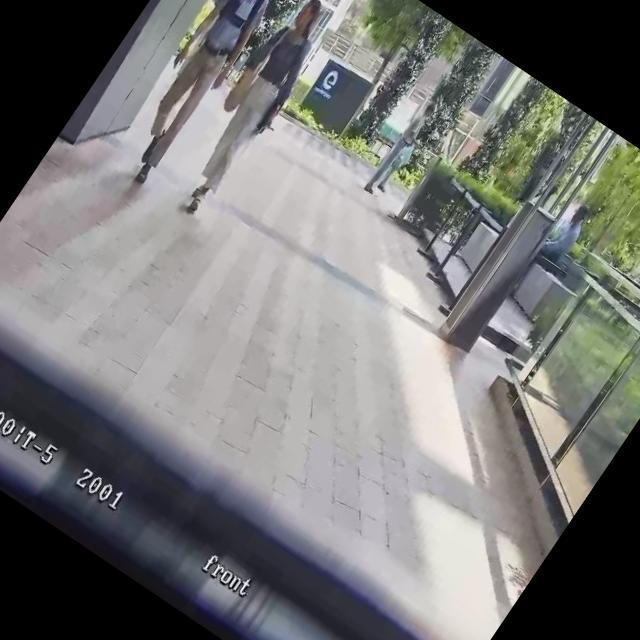person: (163, 0, 345, 220), (105, 0, 302, 190), (362, 95, 443, 200), (534, 196, 596, 272)
